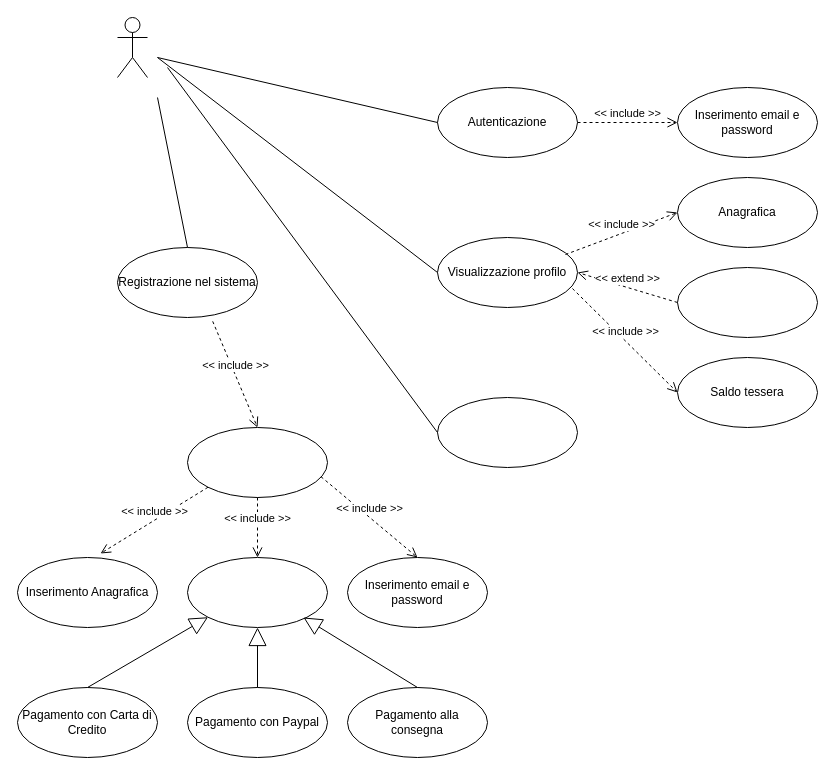
This 835x775 diagram has some shape labels left out. The shapes that lost their labels are listed below. From the top down, each one's centre as x and y in pixels, then its label:
At point (132, 47): "Utente".
At point (747, 302): "Visualizazione delle spese effettuate".
At point (507, 432): "Modifica profilo".
At point (257, 462): "Inserimento dati".
At point (257, 592): "Scelta metodo pagamento".
